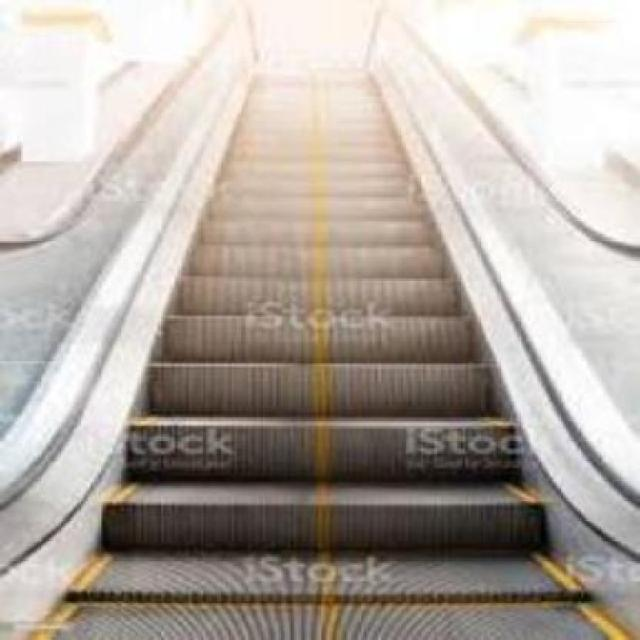stair: (100, 49, 546, 572)
